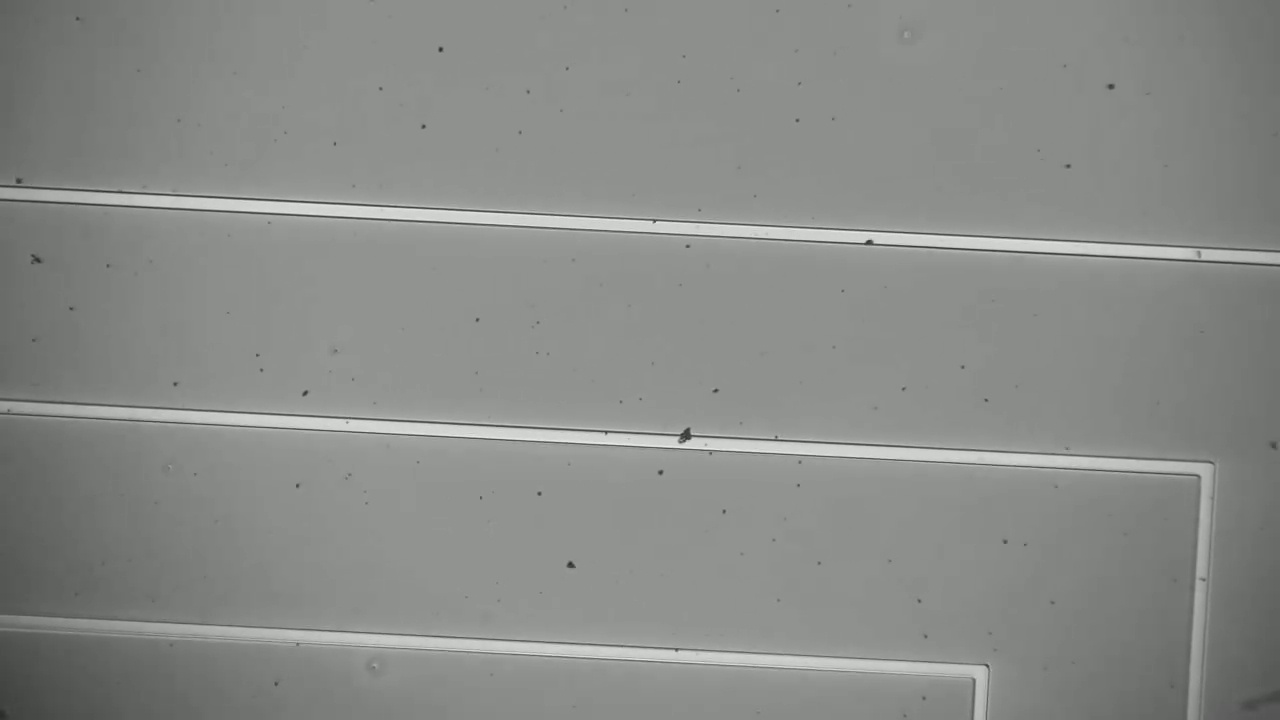stains_enbedded: (670, 422, 699, 457)
